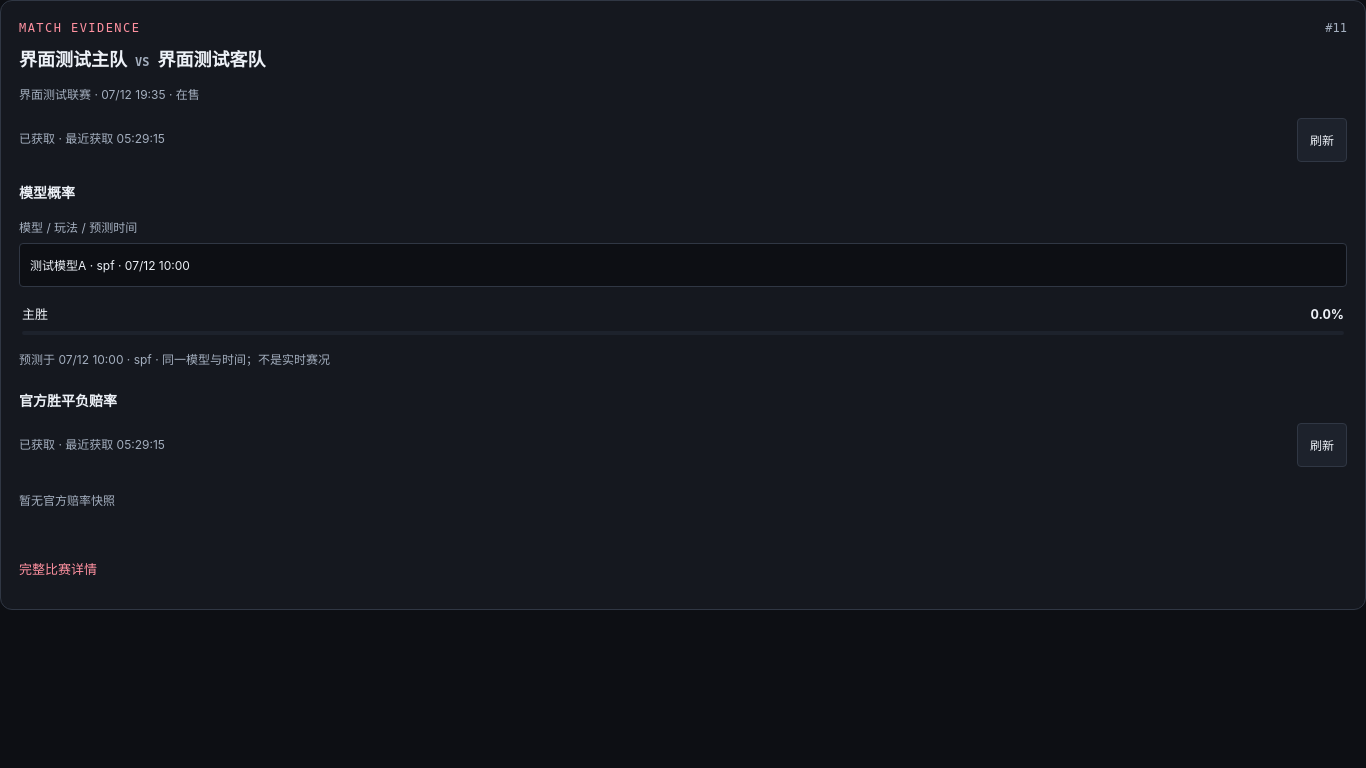
Test: MatchEvidence shared by command center and matches › keeps the last successful evidence and reports a manual refresh failure
Expected: the text "0.0%" is shown, [1310,304,1344,325]
What coordinates should you click on to do the following:
click the 1st button "刷新"
I would click on:
 (1322, 140)
Its box is [1297,118,1347,162].
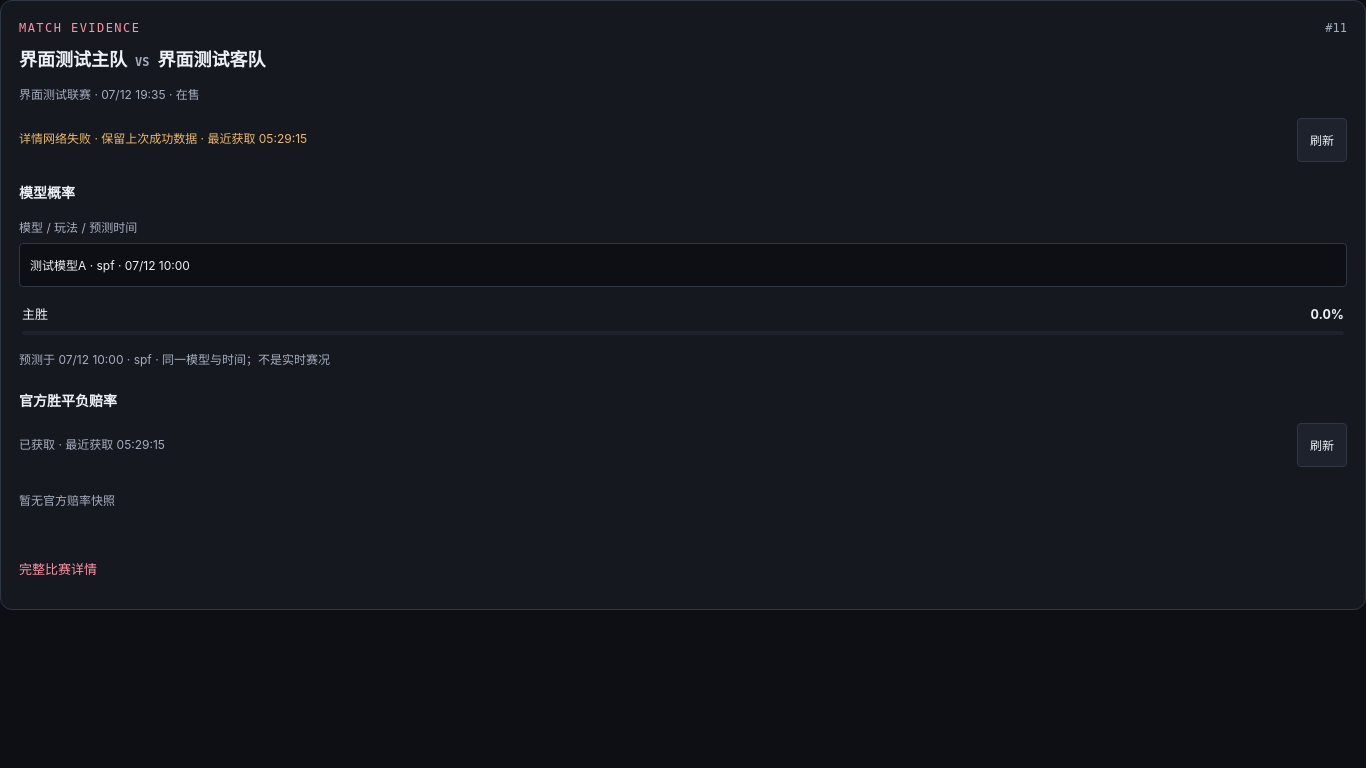
Expected: the text "0.0%" is shown, [1310,304,1344,325]
Expected: the text "详情网络失败 · 保留上次成功数据 · 最近获取 05:29:15" is shown, [19,129,307,150]
